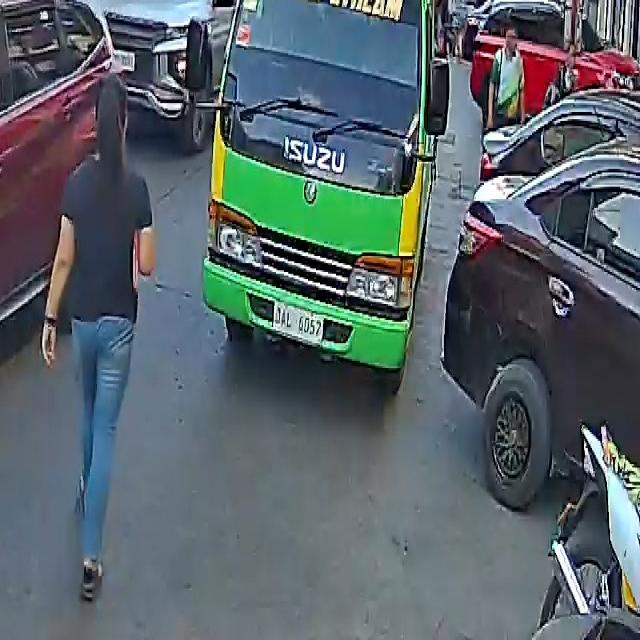car: (444, 113, 640, 516), (0, 0, 131, 519), (64, 0, 245, 119), (468, 0, 640, 114)
